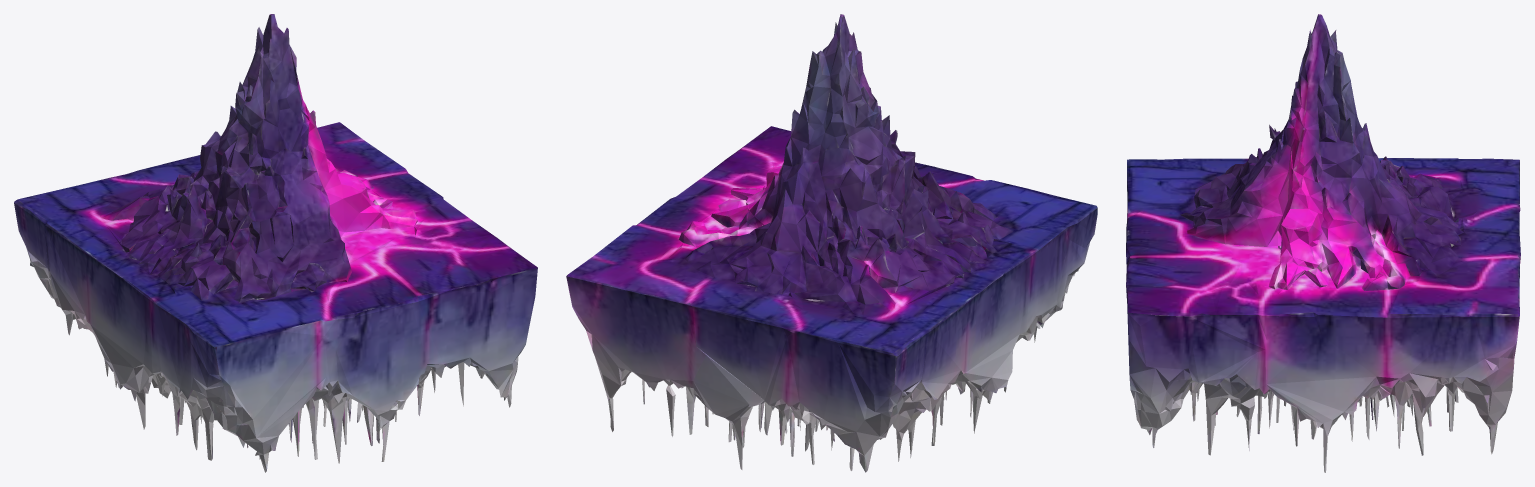
Rendered from solitude-plateau-generated-2026-04-19T18-12-34-007Z.low.glb.
The picture shows the model from 3 angles, left to right: view 1: azimuth 30°, elevation 25°; view 2: azimuth 150°, elevation 25°; view 3: azimuth 270°, elevation 25°; orthographic projection. The views are drawn at different scales.
Visible parts, largest first — view 1: temp_mesh.ply; view 2: temp_mesh.ply; view 3: temp_mesh.ply.
Boxes of the visible parts, x1,y1,x2,y2 form: temp_mesh.ply: [14, 14, 537, 472]; temp_mesh.ply: [566, 14, 1097, 472]; temp_mesh.ply: [1126, 14, 1520, 472].
Size of the model in its own units: 1.78 by 1.97 by 1.87.
Materials: 1 (1 with a texture image).
